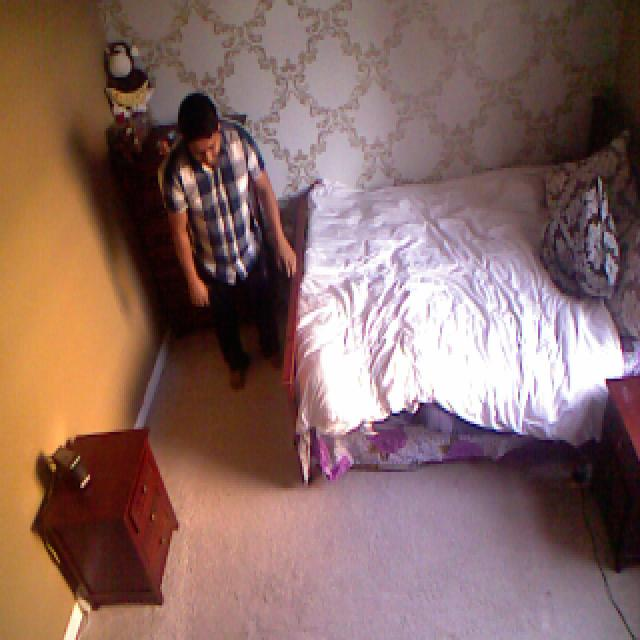standing: (160, 90, 294, 389)
